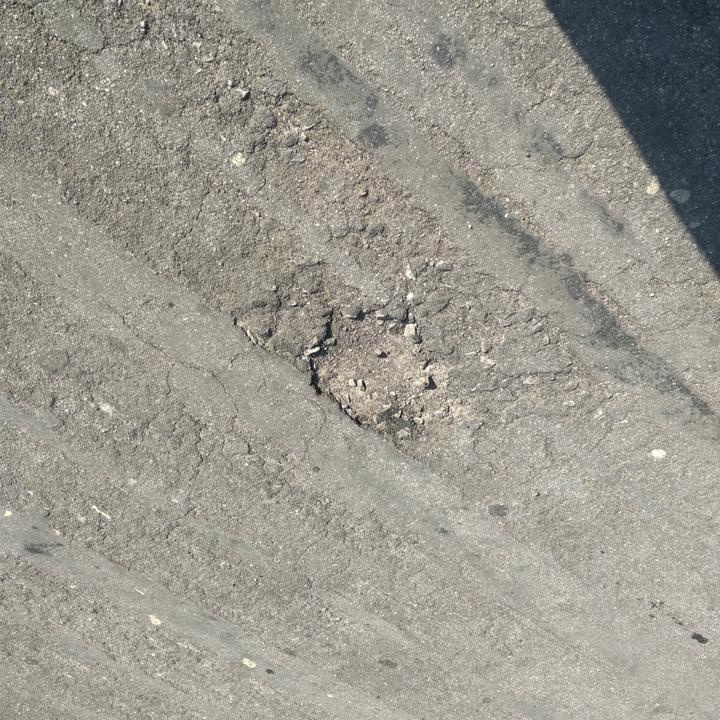pothole: (297, 298, 460, 441)
